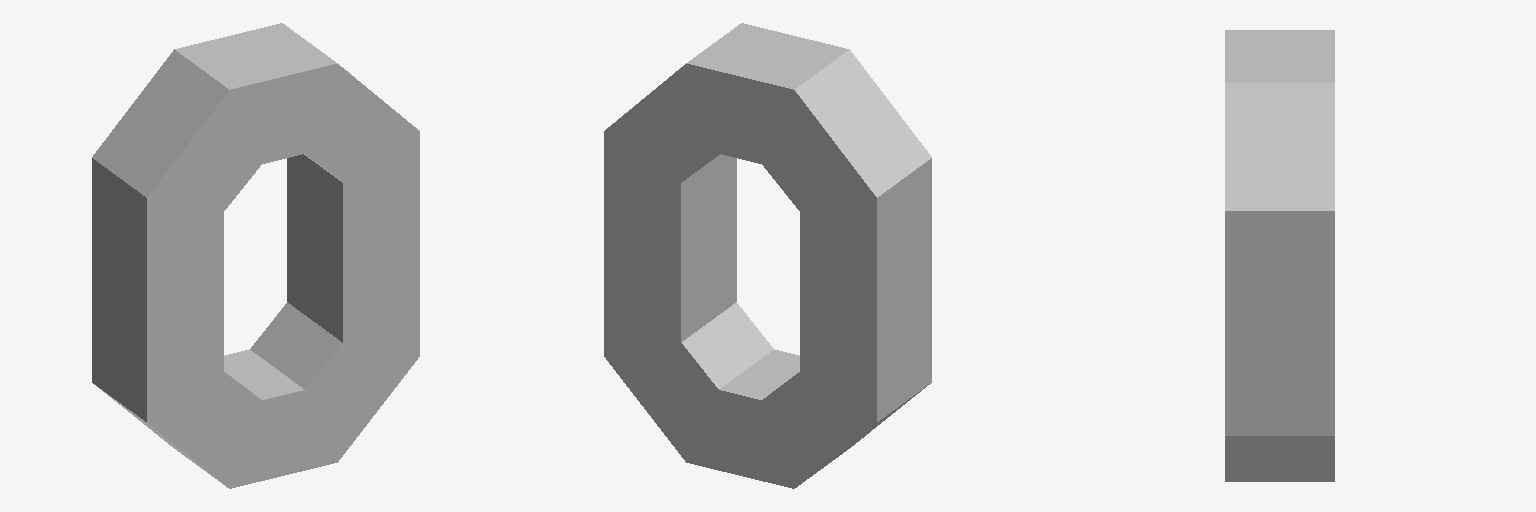
3 views of the same model, side by side, from view 1: azimuth 30°, elevation 25°; view 2: azimuth 150°, elevation 25°; view 3: azimuth 270°, elevation 25° (orthographic).
Visible parts, largest first — view 1: text: ABCDEFGHIJKLMNOPQRSTUVWXYZ[number redacted]; view 2: text: ABCDEFGHIJKLMNOPQRSTUVWXYZ[number redacted]; view 3: text: ABCDEFGHIJKLMNOPQRSTUVWXYZ[number redacted].
Part boxes in pixels (x1,y1,x2,y2): text: ABCDEFGHIJKLMNOPQRSTUVWXYZ[number redacted]: (92, 23, 419, 488); text: ABCDEFGHIJKLMNOPQRSTUVWXYZ[number redacted]: (604, 23, 931, 488); text: ABCDEFGHIJKLMNOPQRSTUVWXYZ[number redacted]: (1225, 30, 1334, 481).
Bounding box in the file's own units: 71.35 × 99.57 × 25.